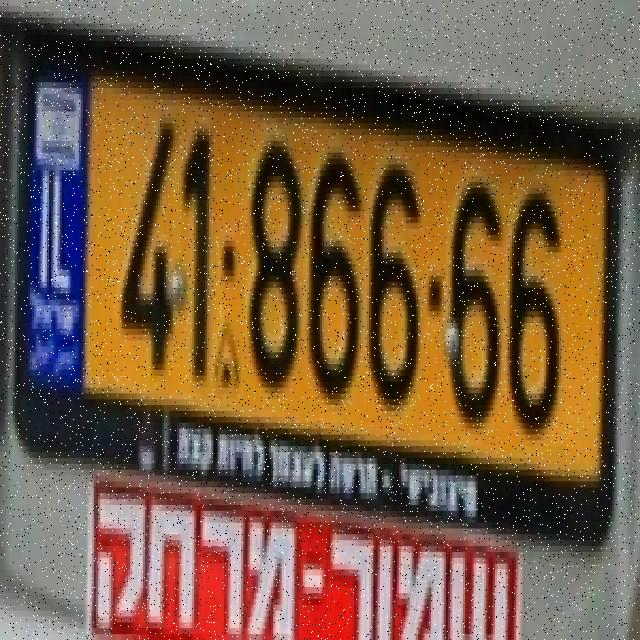licenseplate: (18, 6, 630, 558)
